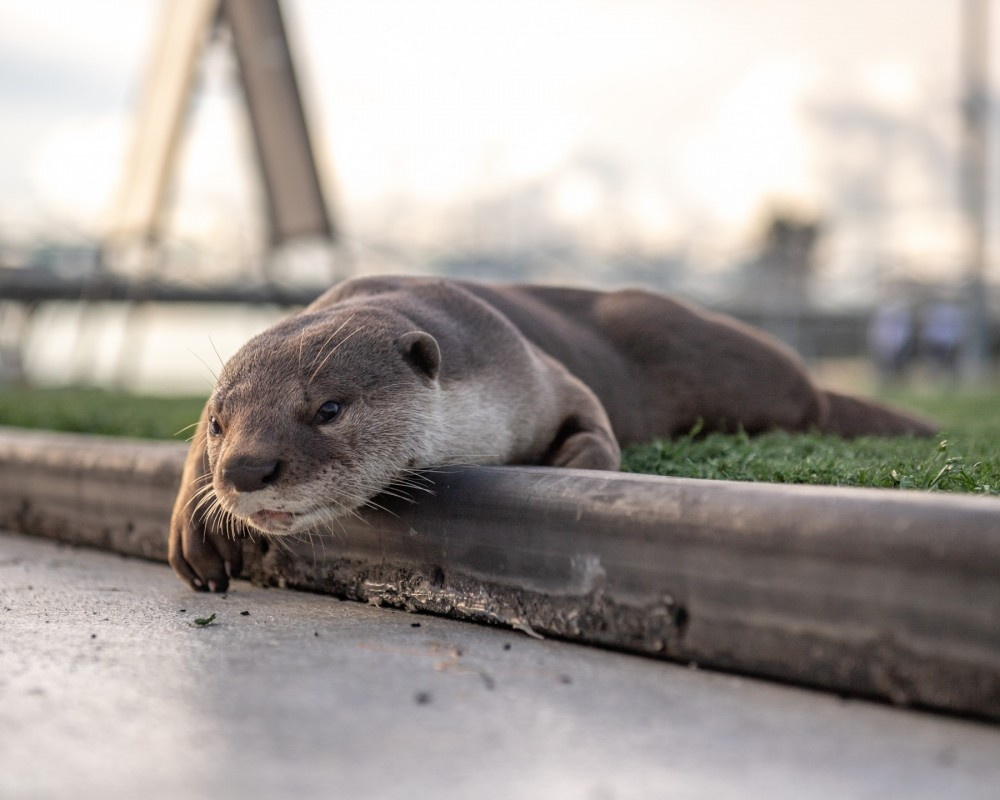otter: (157, 259, 944, 610)
